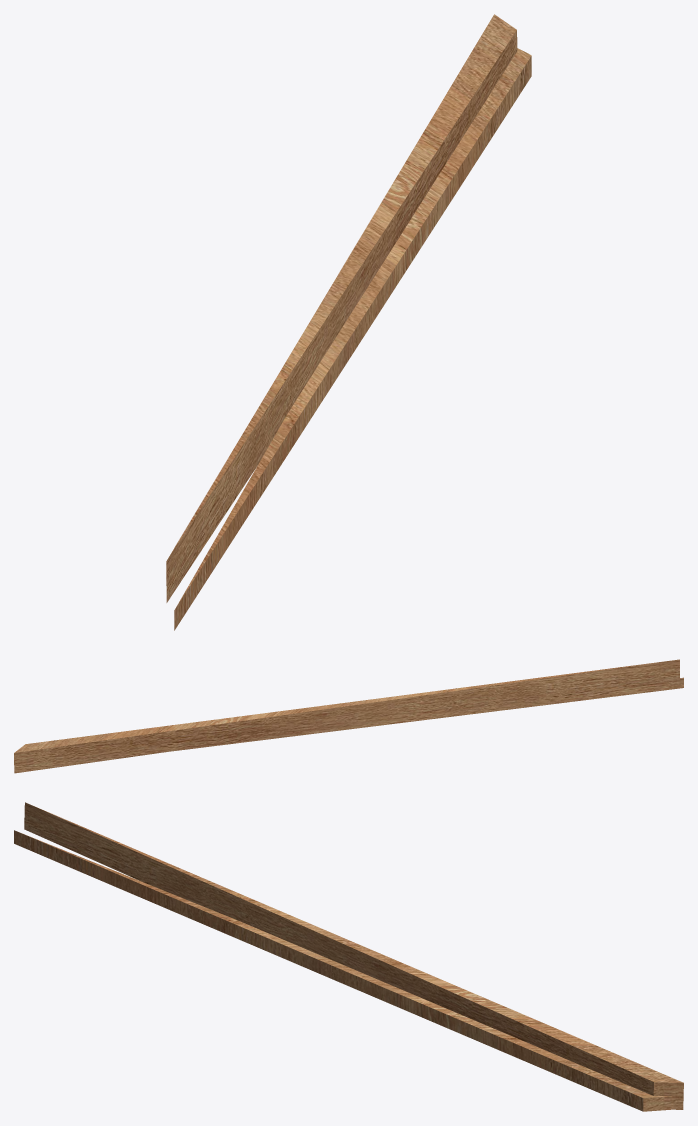
The model's file is 33007_deepcad-end2end.glb.
The picture shows the model from 3 angles, top to bottom: view 1: azimuth 30°, elevation 25°; view 2: azimuth 150°, elevation 25°; view 3: azimuth 270°, elevation 25°; orthographic projection. The views are drawn at different scales.
Parts seen in each view (by area): view 1: test_cmd_33000_pred; view 2: test_cmd_33000_pred; view 3: test_cmd_33000_pred.
Part boxes in pixels (left/top/right/bottom): test_cmd_33000_pred: left=166, top=14, right=531, bottom=630; test_cmd_33000_pred: left=14, top=659, right=683, bottom=773; test_cmd_33000_pred: left=14, top=802, right=683, bottom=1111.
Bounding box in the file's own units: 0.9467 × 0.0689 × 1.
Materials: 1 (1 with a texture image).
